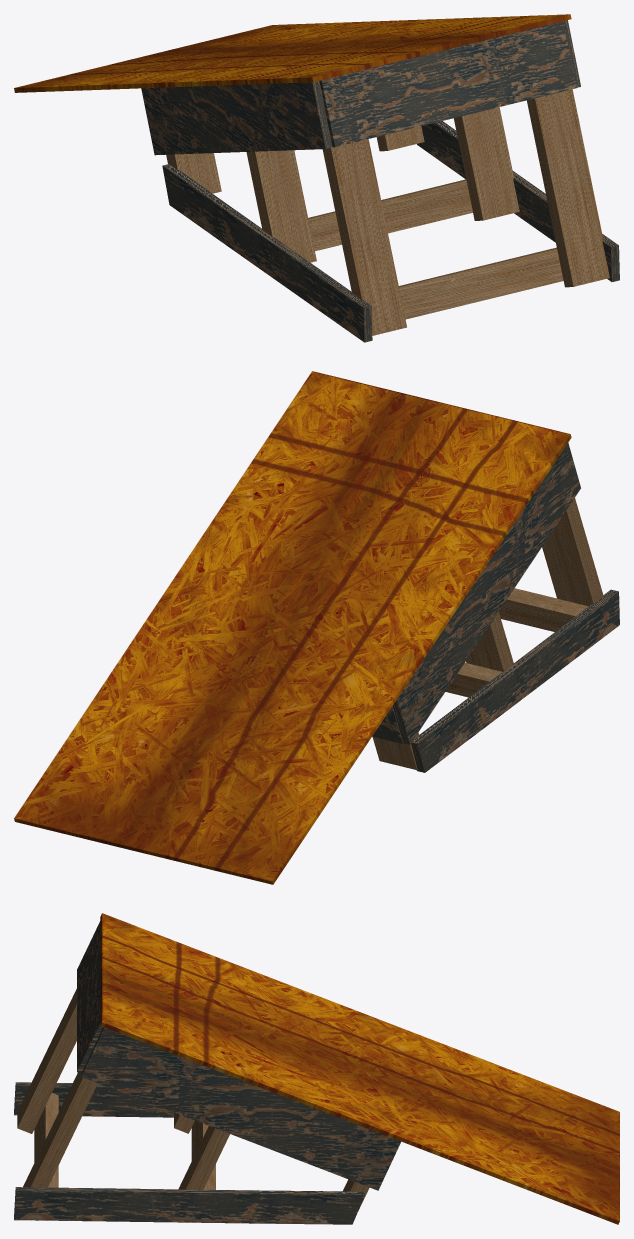
File: low_poly_used_bike_ramp.glb
3 views of the same model, one above another, from view 1: azimuth 30°, elevation 25°; view 2: azimuth 150°, elevation 25°; view 3: azimuth 270°, elevation 25° (orthographic). The views are drawn at different scales.
Visible parts, largest first — view 1: Plane_10, Cube_0, Cube.004_4, Cube.006_6, Cube.007_7, Cube.001_1, Cube.008_8, Cube.009_9, Cube.002_2; view 2: Plane_10, Cube.006_6, Cube.007_7, Cube_0, Cube.008_8, Cube.001_1, Cube.009_9, Cube.002_2; view 3: Plane_10, Cube.006_6, Cube.007_7, Cube_0, Cube.004_4, Cube.001_1, Cube.008_8, Cube.009_9.
Boxes of the visible parts, x1,y1,x2,y2 form: Plane_10: (14,14,571,92); Cube_0: (322,89,609,335); Cube.004_4: (319,21,576,147); Cube.006_6: (141,20,580,155); Cube.007_7: (162,121,619,342); Cube.001_1: (246,107,519,262); Cube.008_8: (399,247,563,319); Cube.009_9: (308,179,472,251); Cube.002_2: (166,126,424,193); Plane_10: (14,371,571,884); Cube.006_6: (393,443,580,744); Cube.007_7: (411,589,619,772); Cube_0: (542,498,603,606); Cube.008_8: (499,588,588,631); Cube.001_1: (466,612,513,671); Cube.009_9: (445,662,501,697); Cube.002_2: (372,732,419,769); Plane_10: (100,913,619,1224); Cube.006_6: (81,1027,400,1190); Cube.007_7: (14,1082,364,1224); Cube_0: (17,988,97,1187); Cube.004_4: (77,921,102,1073); Cube.001_1: (174,1112,229,1190); Cube.008_8: (34,1093,58,1187); Cube.009_9: (191,1120,215,1189).
Size of the model in its own units: 0.6096 by 0.5269 by 1.43.
Materials: 3 (3 with a texture image).
